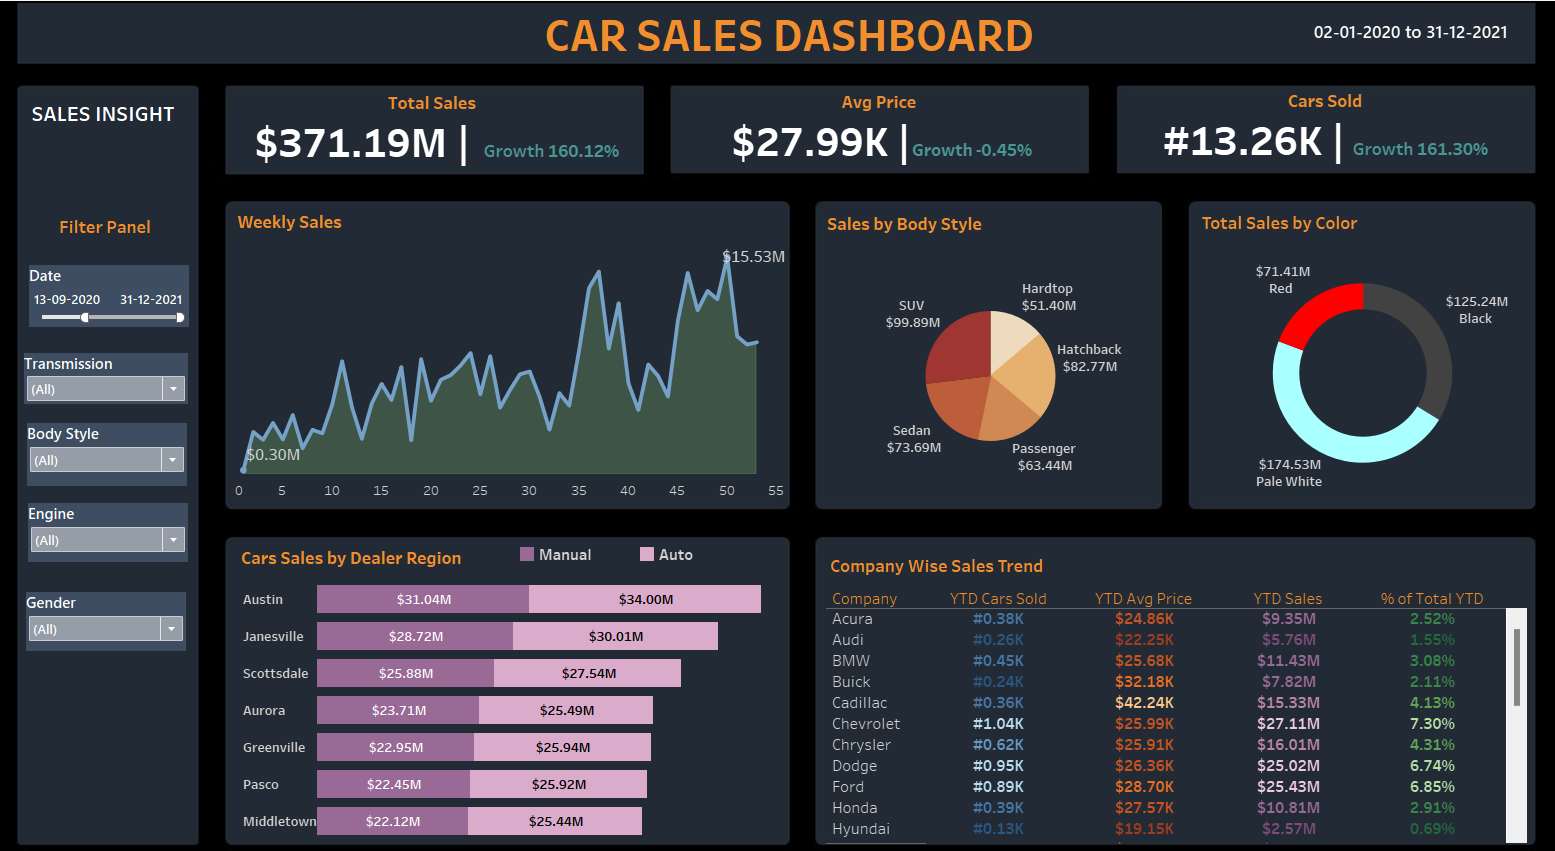

What the dashboard file says about the page in this screenshot:
{"tool":"tableau","page":{"name":"Car Sales Dashboard","canvas":[1600,900],"ordinal":0},"visuals":[{"type":"image","param":"Image/Car Sales Background.jpg","box":[8,8,1584,884]},{"type":"text","box":[564,34,497,50]},{"type":"worksheet","title":"Date Range","mark":"Automatic","box":[1318,40,233,36]},{"type":"worksheet","title":"Total Sales","mark":"Automatic","box":[250,113,412,86]},{"type":"worksheet","title":"Cars Sold","mark":"Automatic","box":[1143,114,413,80]},{"type":"worksheet","title":"Avg Price","mark":"Automatic","box":[698,115,406,79]},{"type":"text","box":[51,124,150,30]},{"type":"worksheet","title":"Sales Weekly","mark":"Area","rows":["Calculation_744782801215340544","Calculation_744782801215340544"],"cols":["Date"],"box":[256,232,553,298]},{"type":"worksheet","title":" Total Sales by Color ","mark":"Circle","cols":["Calculation_702561554973933569","Calculation_702561554973970435"],"box":[1217,232,337,295]},{"type":"worksheet","title":" Total Sales by Body Style","mark":"Pie","box":[846,234,335,298]},{"type":"text","box":[53,237,150,30]},{"type":"filter","title":"Sales Weekly","param":"[federated.11rixh40ydwsw212812fw0ff7sbr].[none:Date:qk]","box":[52,291,160,62]},{"type":"filter","title":"Sales Weekly","param":"[federated.11rixh40ydwsw212812fw0ff7sbr].[none:Transmission:nk]","box":[47,379,164,51]},{"type":"filter","title":"Sales Weekly","param":"[federated.11rixh40ydwsw212812fw0ff7sbr].[none:Body Style:nk]","box":[50,449,160,63]},{"type":"filter","title":"Sales Weekly","param":"[federated.11rixh40ydwsw212812fw0ff7sbr].[none:Engine:nk]","box":[51,529,160,59]},{"type":"worksheet","title":"Cars Sales by Dealer Region","mark":"Automatic","rows":["Dealer_Region"],"cols":["Calculation_744782801215340544"],"box":[260,568,546,297]},{"type":"legend","title":"Cars Sales by Dealer Region","param":"[federated.11rixh40ydwsw212812fw0ff7sbr].[none:Transmission:nk]","box":[540,570,267,26]},{"type":"worksheet","title":"Company Wise Sales Trend","mark":"Automatic","rows":["Company"],"box":[849,575,701,295]},{"type":"filter","title":"Sales Weekly","param":"[federated.11rixh40ydwsw212812fw0ff7sbr].[none:Gender:nk]","box":[49,618,160,59]}]}

Visuals, with their boxes in screenshot pixels (x1, y1, x2, y2), scaled from the page's 1600x900 canvas onto the 1555x851 screenshot:
image: bbox=[8, 8, 1547, 843]
text: bbox=[548, 32, 1031, 79]
"Date Range" worksheet: bbox=[1281, 38, 1507, 72]
"Total Sales" worksheet: bbox=[243, 107, 643, 188]
"Cars Sold" worksheet: bbox=[1111, 108, 1512, 183]
"Avg Price" worksheet: bbox=[678, 109, 1073, 183]
text: bbox=[50, 117, 195, 146]
"Sales Weekly" worksheet (Area marks): bbox=[249, 219, 786, 501]
" Total Sales by Color " worksheet (Circle marks): bbox=[1183, 219, 1510, 498]
" Total Sales by Body Style" worksheet (Pie marks): bbox=[822, 221, 1148, 503]
text: bbox=[52, 224, 197, 252]
"Sales Weekly" filter: bbox=[51, 275, 206, 334]
"Sales Weekly" filter: bbox=[46, 358, 205, 407]
"Sales Weekly" filter: bbox=[49, 425, 204, 484]
"Sales Weekly" filter: bbox=[50, 500, 205, 556]
"Cars Sales by Dealer Region" worksheet: bbox=[253, 537, 783, 818]
"Cars Sales by Dealer Region" legend: bbox=[525, 539, 784, 564]
"Company Wise Sales Trend" worksheet: bbox=[825, 544, 1506, 823]
"Sales Weekly" filter: bbox=[48, 584, 203, 640]
